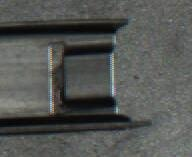press: (16, 16, 147, 131)
